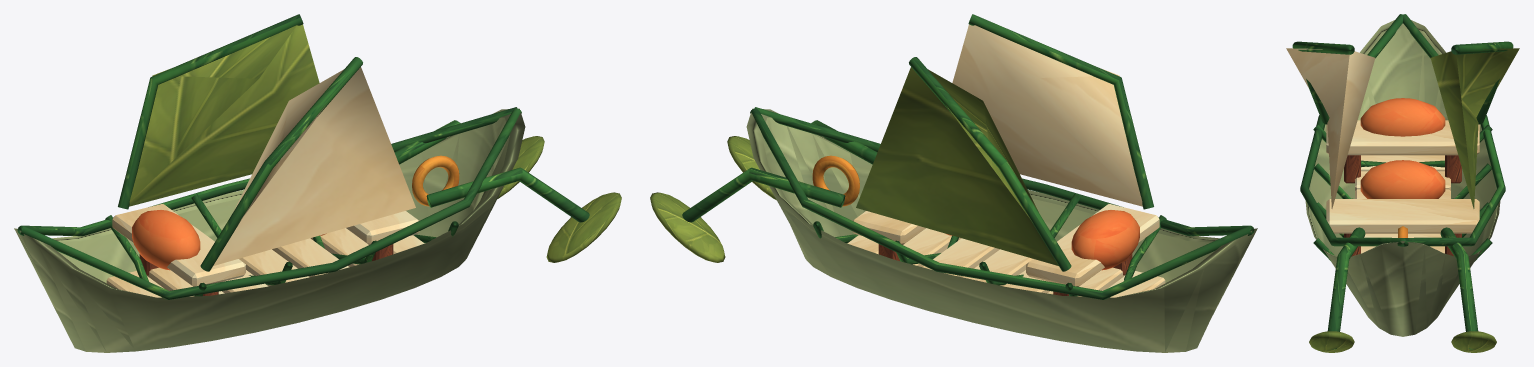
The model's file is revised-06-06.glb.
The picture shows the model from 3 angles, left to right: view 1: azimuth 30°, elevation 25°; view 2: azimuth 150°, elevation 25°; view 3: azimuth 270°, elevation 25°; orthographic projection. The views are drawn at different scales.
Visible parts, largest first — view 1: folded_ferry; view 2: folded_ferry; view 3: folded_ferry.
Boxes of the visible parts, box(x1,y1,x2,y2) form: folded_ferry: box(14, 14, 621, 352); folded_ferry: box(650, 14, 1257, 352); folded_ferry: box(1286, 14, 1519, 352).
Size of the model in its own units: 2.61 by 1.11 by 1.02.
Materials: 1 (1 with a texture image).
